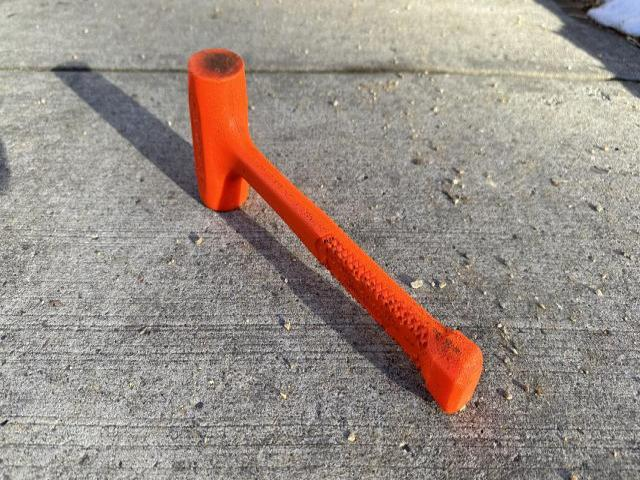hammer: (186, 51, 483, 416)
